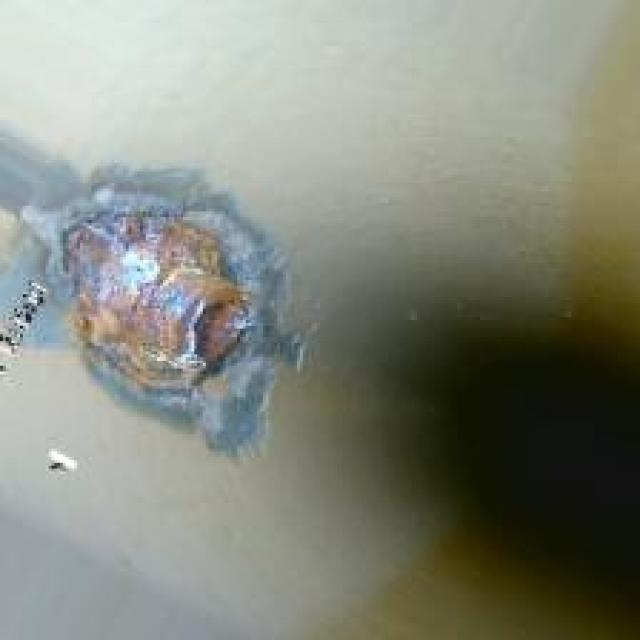ferrule: (63, 208, 286, 408)
